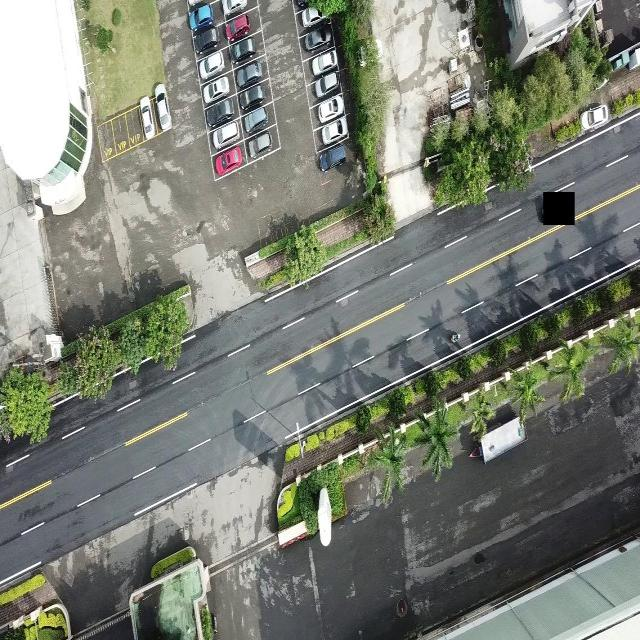car: (188, 1, 214, 35), (154, 83, 172, 132), (192, 25, 220, 55), (215, 145, 242, 176), (580, 103, 608, 132), (224, 13, 251, 42), (209, 128, 244, 150), (138, 95, 155, 140), (319, 144, 346, 172), (229, 39, 261, 62), (314, 96, 348, 117), (248, 131, 273, 159), (320, 120, 350, 143), (194, 56, 230, 75), (242, 111, 273, 132), (304, 27, 331, 51), (310, 76, 345, 93), (203, 106, 236, 124), (235, 66, 268, 84), (309, 52, 341, 70), (236, 88, 268, 106), (302, 6, 326, 28), (199, 83, 232, 99), (221, 0, 247, 17)
